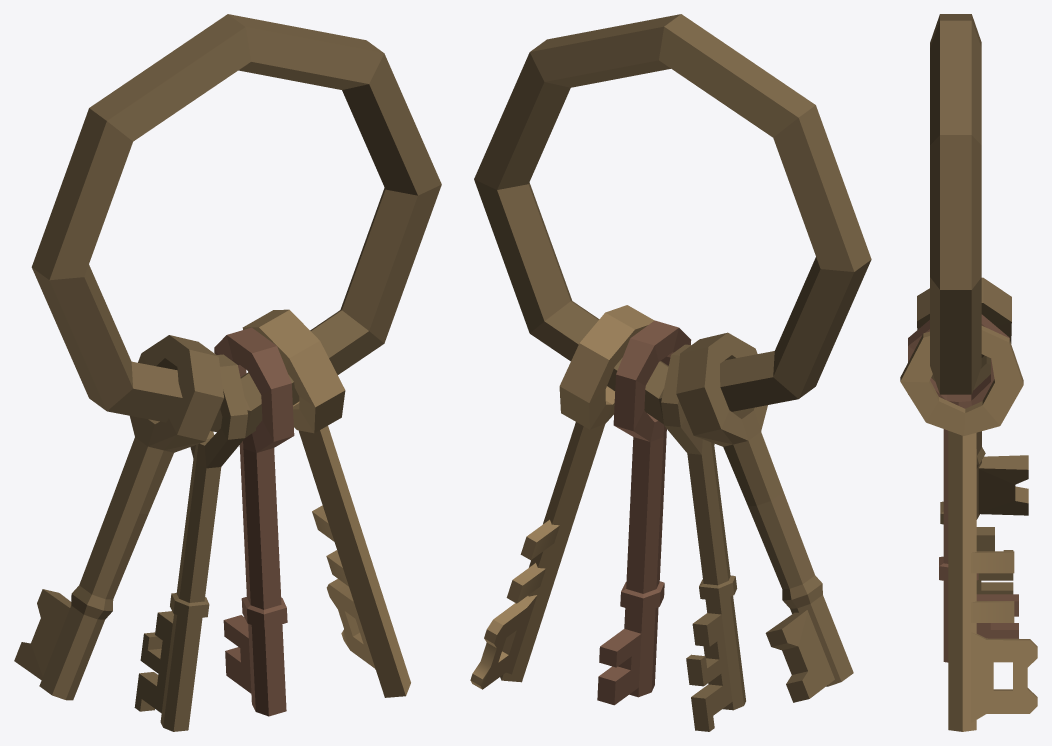
File: SM_Chr_Attach_Keys_01.fbx
3 renders of one model, left to right at view 1: azimuth 30°, elevation 25°; view 2: azimuth 150°, elevation 25°; view 3: azimuth 270°, elevation 25°, orthographic. The views are drawn at different scales.
Visible parts, largest first — view 1: SM_Chr_Attach_Keys_01; view 2: SM_Chr_Attach_Keys_01; view 3: SM_Chr_Attach_Keys_01.
Part boxes in pixels (x1,y1,x2,y2): SM_Chr_Attach_Keys_01: (14,14,441,731); SM_Chr_Attach_Keys_01: (470,14,871,731); SM_Chr_Attach_Keys_01: (900,14,1037,731).
Bounding box in the file's own units: 22.56 × 39.4 × 7.65.
